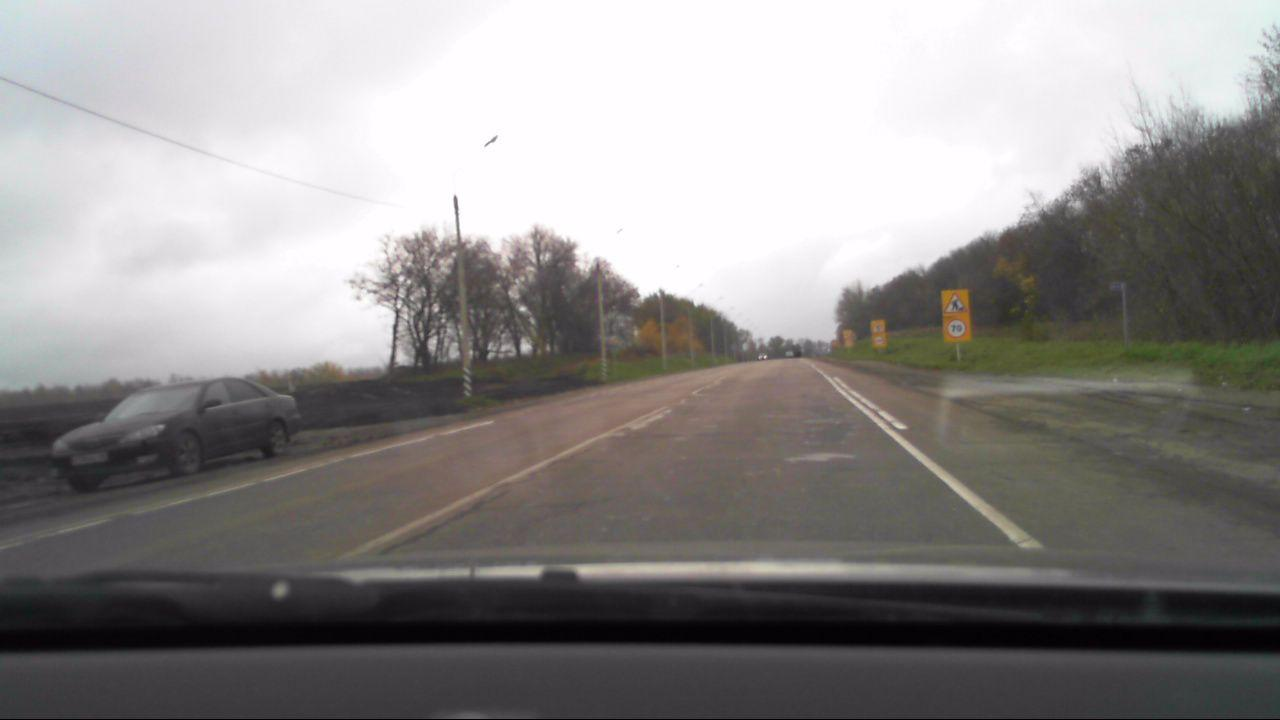1_20_2: (873, 321, 884, 332)
1_25: (945, 291, 967, 313)
3_20: (874, 335, 884, 345)
3_24: (948, 317, 970, 340)
